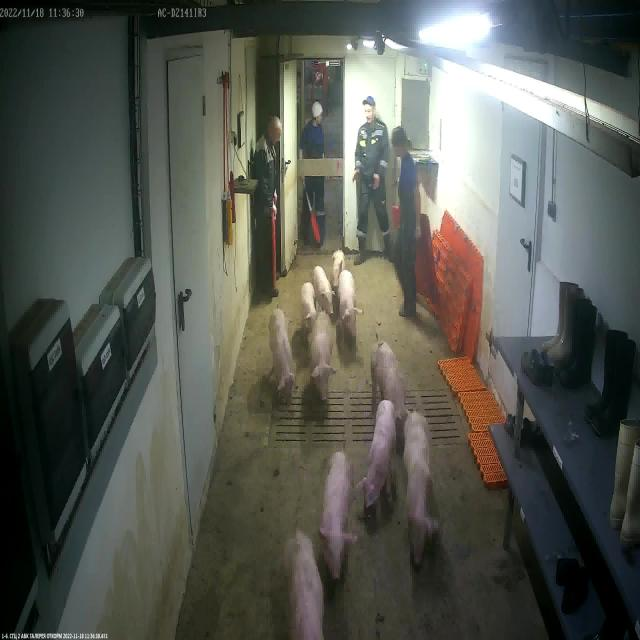pig: (404, 412, 440, 568), (320, 452, 358, 580), (356, 400, 396, 510), (289, 534, 324, 640), (269, 308, 296, 406), (372, 342, 404, 419), (312, 313, 336, 400), (338, 271, 364, 336), (312, 266, 336, 315), (302, 282, 316, 326), (332, 250, 344, 288)
